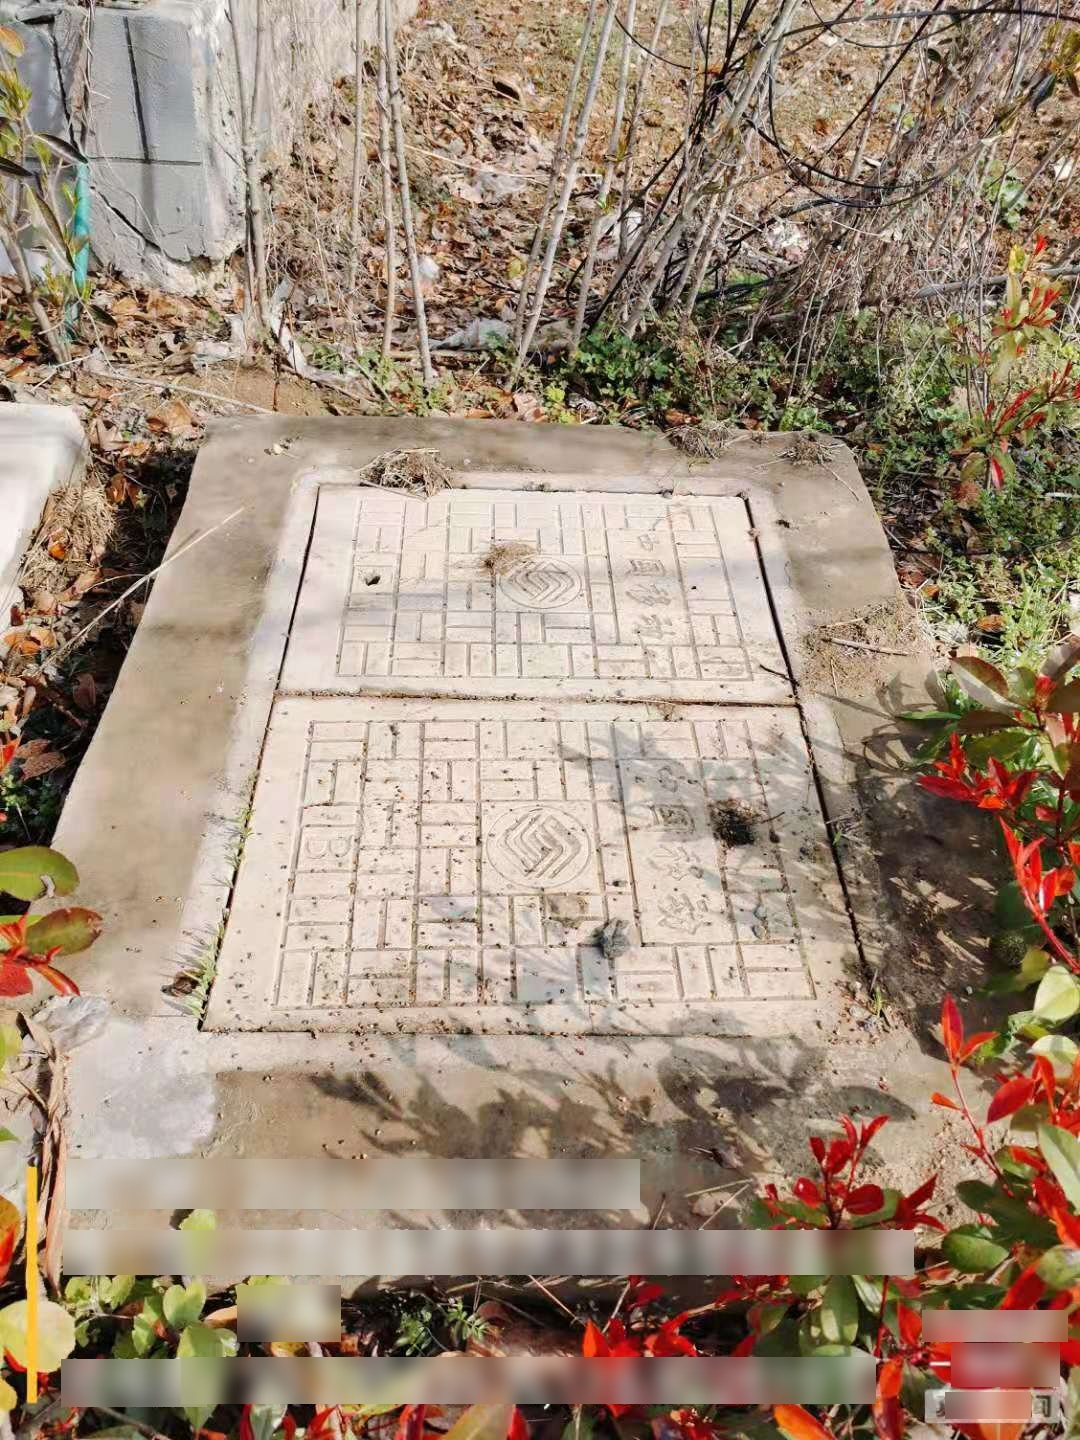good: (157, 463, 913, 1057)
